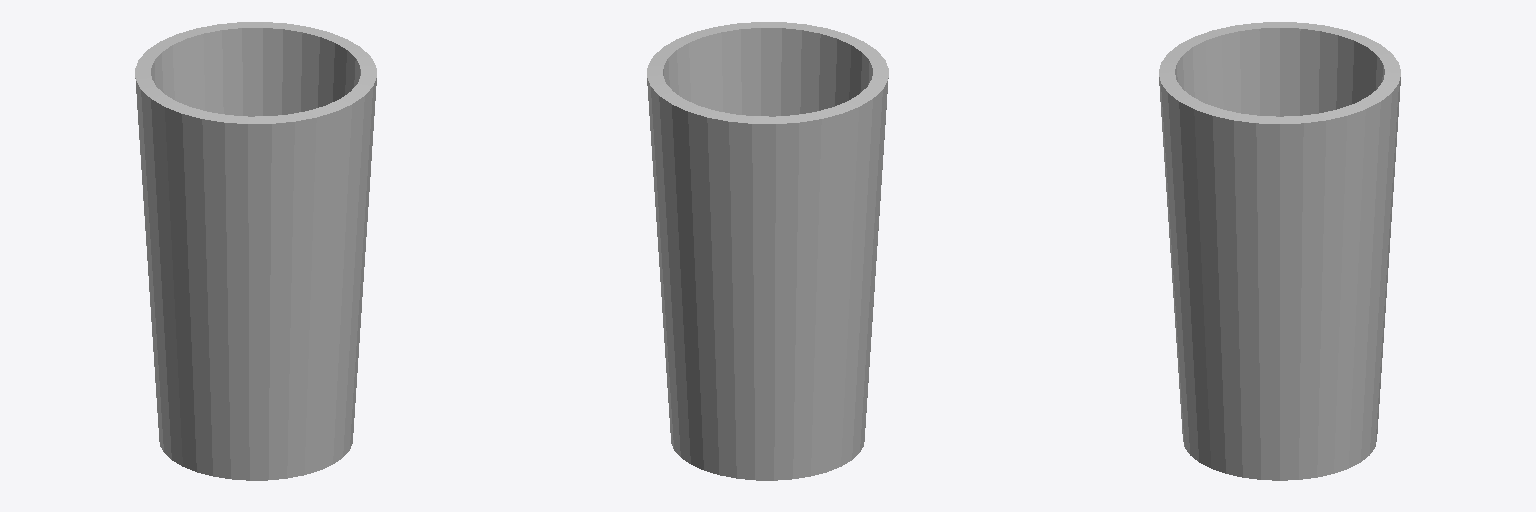
File: kcup.obj
3 renders of one model, left to right at view 1: azimuth 30°, elevation 25°; view 2: azimuth 150°, elevation 25°; view 3: azimuth 270°, elevation 25°, orthographic.
Parts seen in each view (by area): view 1: Cone; view 2: Cone; view 3: Cone.
Part boxes in pixels (x1,y1,x2,y2): Cone: (135,22,376,480); Cone: (647,22,888,480); Cone: (1159,22,1400,480).
Size of the model in its own units: 0.15 by 0.2506 by 0.15.